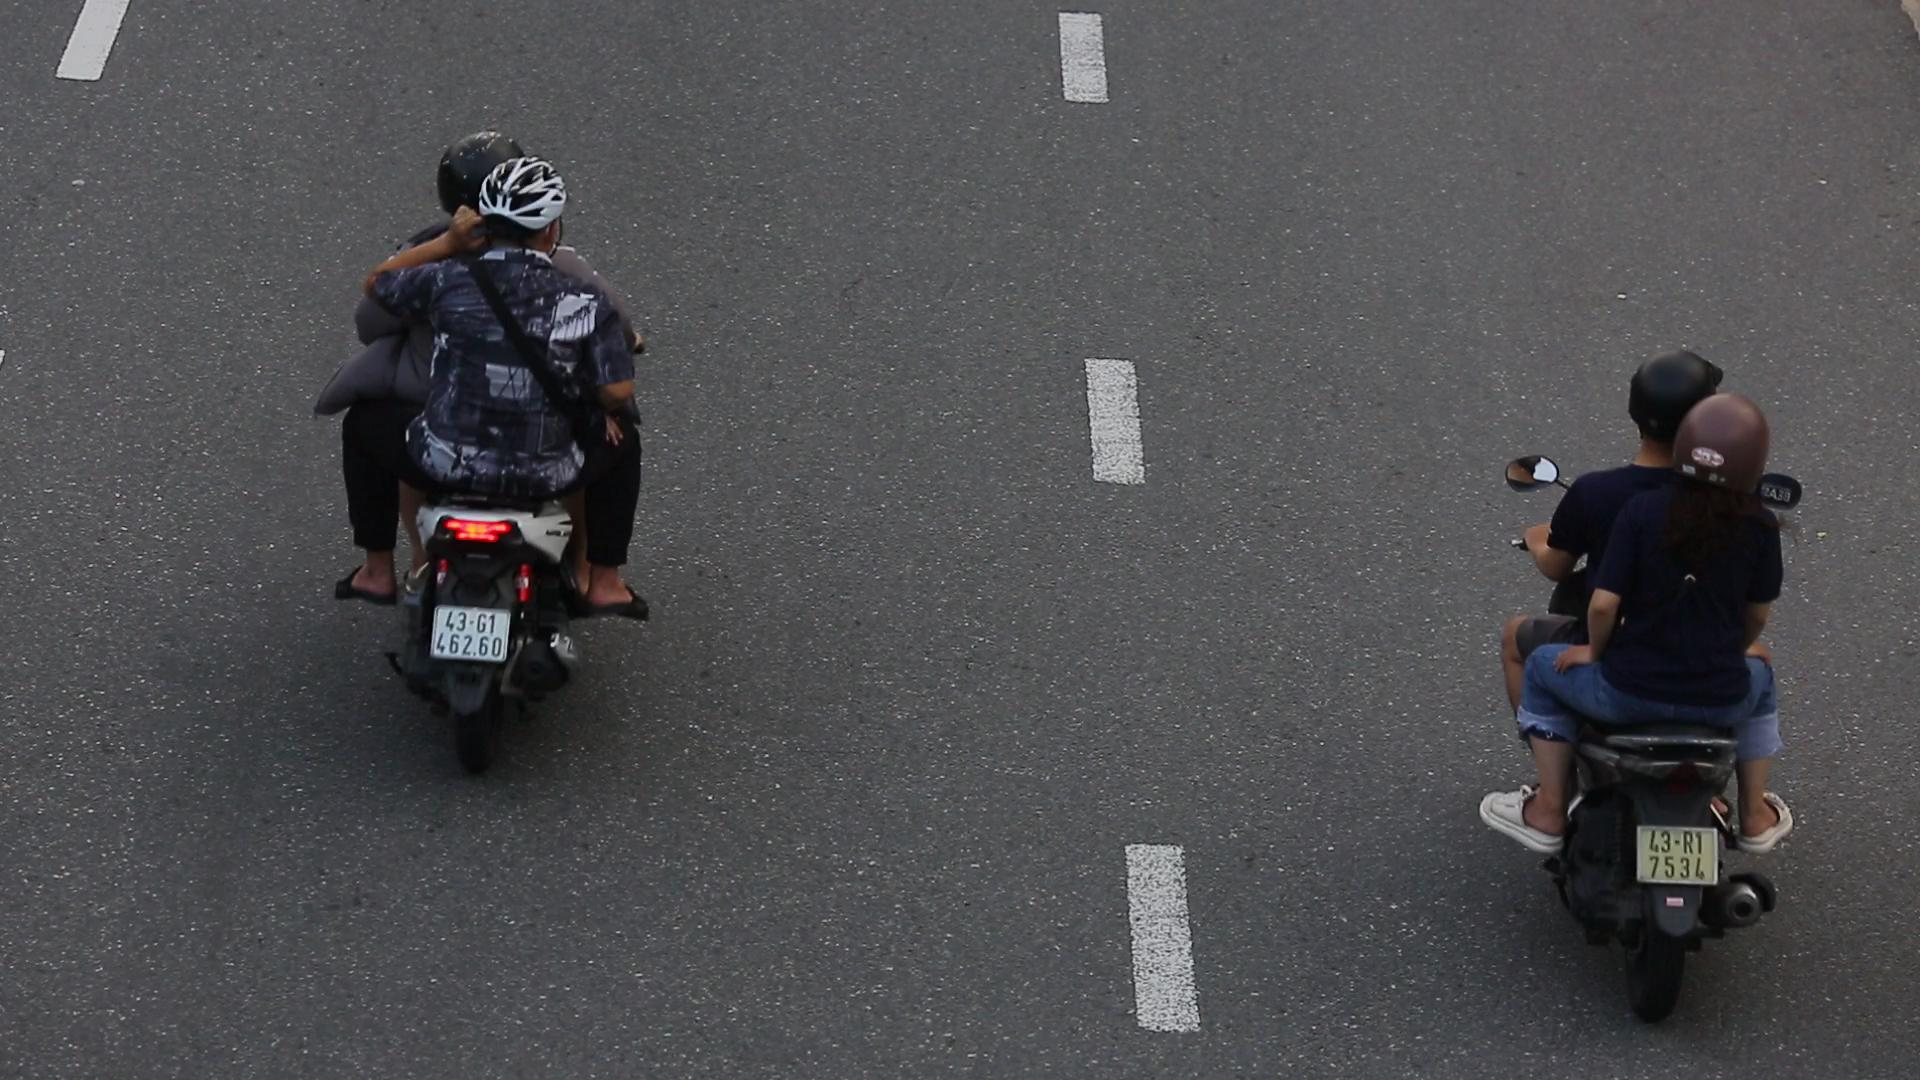motobike: (1427, 273, 1869, 1051), (301, 102, 673, 807)
